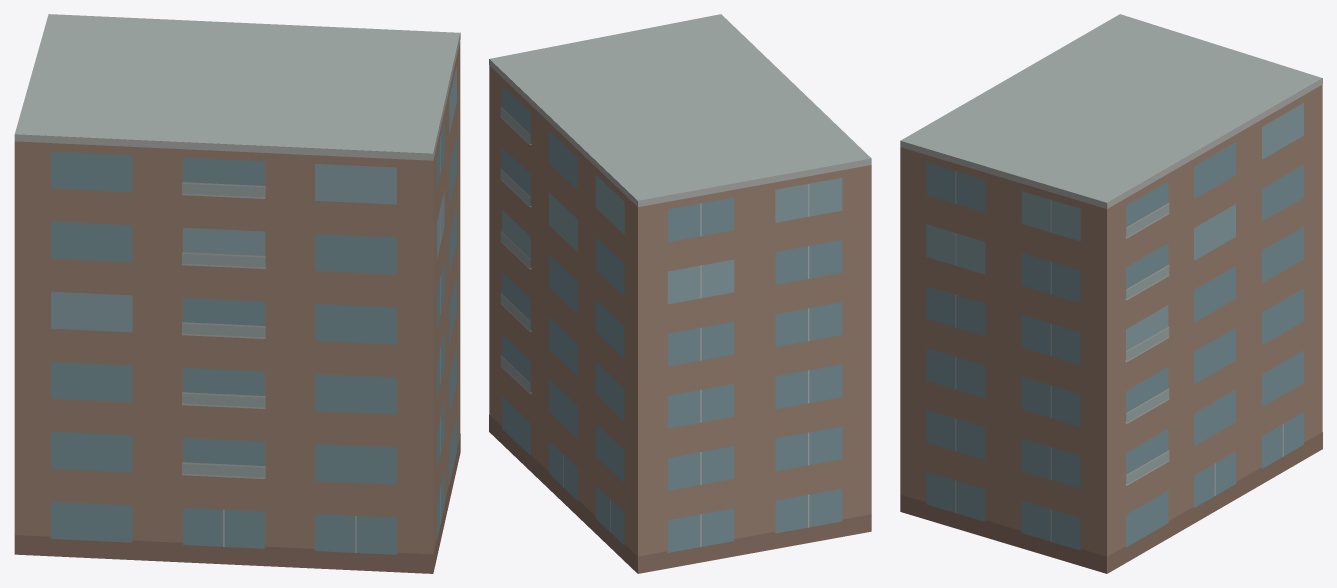
Rendered from survey-upis-32842979.glb.
3 views of the same model, side by side, from view 1: azimuth 30°, elevation 25°; view 2: azimuth 150°, elevation 25°; view 3: azimuth 270°, elevation 25° (orthographic). The views are drawn at different scales.
Parts seen in each view (by area): view 1: survey-upis-32842979.tmp; view 2: survey-upis-32842979.tmp; view 3: survey-upis-32842979.tmp.
Part boxes in pixels (<box>): survey-upis-32842979.tmp: <box>14,14,460,573</box>; survey-upis-32842979.tmp: <box>489,14,871,573</box>; survey-upis-32842979.tmp: <box>900,14,1322,573</box>.
Size of the model in its own units: 15.78 by 14.45 by 14.92.
